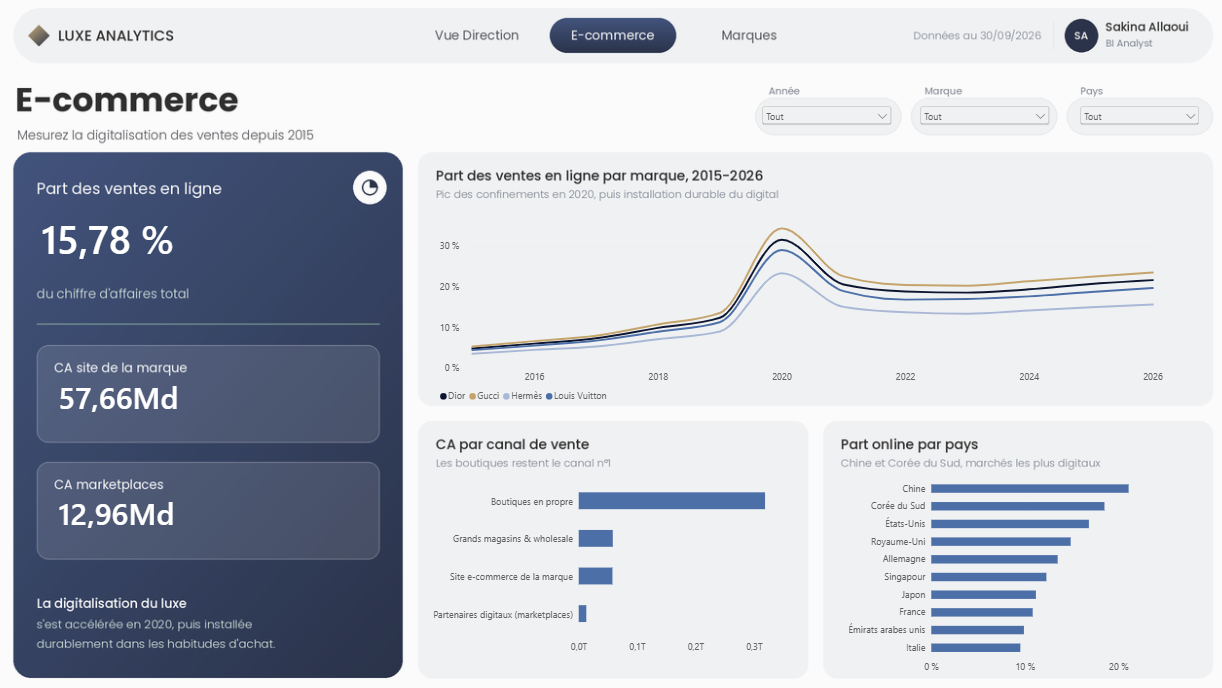

The page's visual inventory and layout, read from the dashboard file:
{"tool":"powerbi","page":{"name":"E-commerce","canvas":[1920,1080],"ordinal":1},"visuals":[{"type":"slicer","fields":{"Values":["dim_date.annee"]},"box":[1185.7,167.1,208.6,112.9],"z":4000},{"type":"lineChart","title":"Évolution du CA mensuel par marque","fields":{"Category":["dim_date.annee"],"Series":["dim_marque.marque_nom"],"Y":["fact_ventes.Part online %"]},"box":[677.1,332.9,1147.1,315.7],"z":5000},{"type":"slicer","fields":{"Values":["dim_marque.marque_nom"]},"box":[1428.6,167.1,208.6,85.7],"z":6000},{"type":"slicer","fields":{"Values":["dim_pays.pays_nom"]},"box":[1674.3,167.1,193.3,210],"z":7000},{"type":"barChart","title":"CA par canal de vente","fields":{"Category":["dim_canal.canal_nom"],"Y":["fact_ventes.CA"]},"box":[647.1,721.4,604.3,314.3],"z":8000},{"type":"barChart","title":"Part online par pays","fields":{"Category":["dim_pays.pays_nom"],"Y":["fact_ventes.Part online %"]},"box":[1297.1,721.4,545.7,345.7],"z":9000},{"type":"cardVisual","fields":{"Data":["fact_ventes.Part online %"]},"box":[63.3,313.3,306,122],"z":9001},{"type":"cardVisual","fields":{"Data":["fact_ventes.CA marketplaces"]},"box":[90,718,360,160],"z":9002},{"type":"cardVisual","fields":{"Data":["fact_ventes.CA site marque"]},"box":[90,540,360,160],"z":9003},{"type":"actionButton","box":[668.8,40,167.5,42.5],"z":9004},{"type":"actionButton","box":[1120,40,98.8,42.5],"z":9005}]}

Visuals, with their boxes in screenshot pixels (x1, y1, x2, y2), scaled from the page's 1920x1080 canvas onto the 1222x688 screenshot:
slicer - dim_date.annee: Rect(755, 106, 887, 178)
"Évolution du CA mensuel par marque" lineChart: Rect(431, 212, 1161, 413)
slicer - dim_marque.marque_nom: Rect(909, 106, 1042, 161)
slicer - dim_pays.pays_nom: Rect(1066, 106, 1189, 240)
"CA par canal de vente" barChart: Rect(412, 460, 796, 660)
"Part online par pays" barChart: Rect(826, 460, 1173, 680)
cardVisual - fact_ventes.Part online %: Rect(40, 200, 235, 277)
cardVisual - fact_ventes.CA marketplaces: Rect(57, 457, 286, 559)
cardVisual - fact_ventes.CA site marque: Rect(57, 344, 286, 446)
actionButton: Rect(426, 25, 532, 53)
actionButton: Rect(713, 25, 776, 53)
